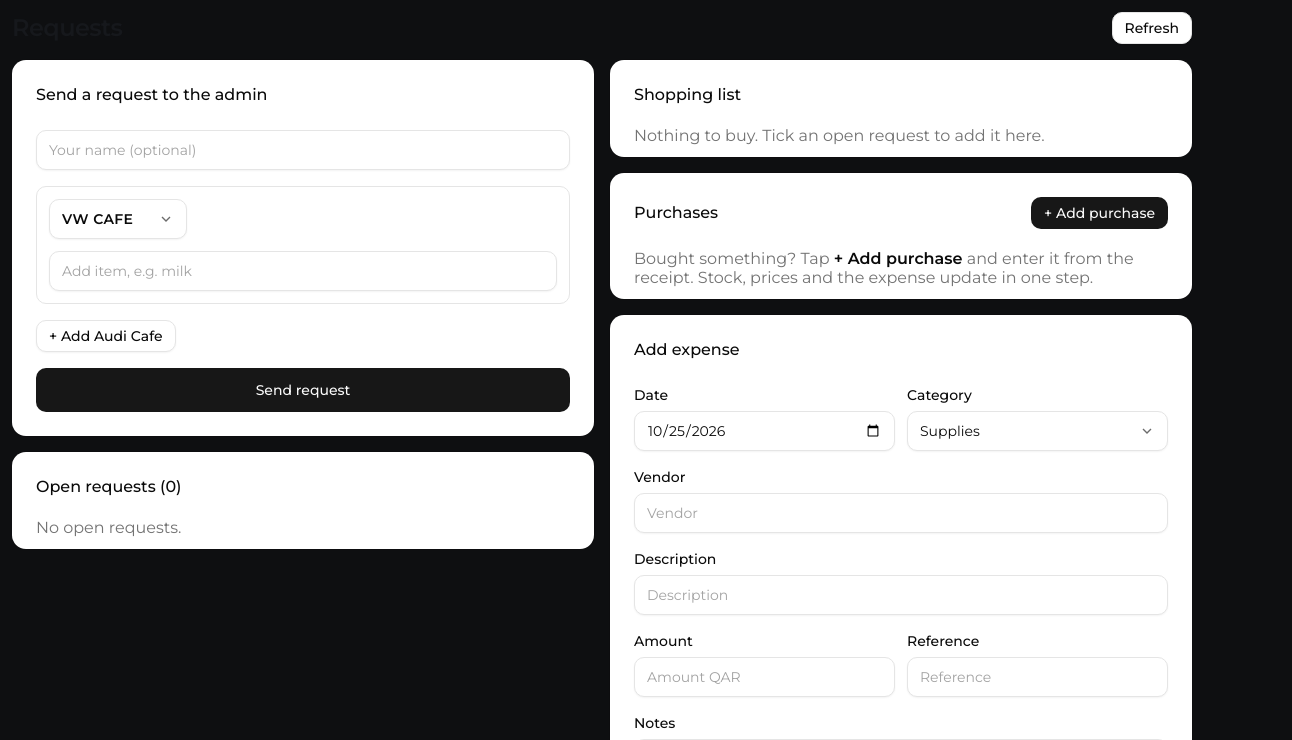
Add purchase › takes a price each and works out the line total
Step 1. Click the button "+ Add purchase" → {"x": 1100, "y": 213}, box [1031, 197, 1168, 229]
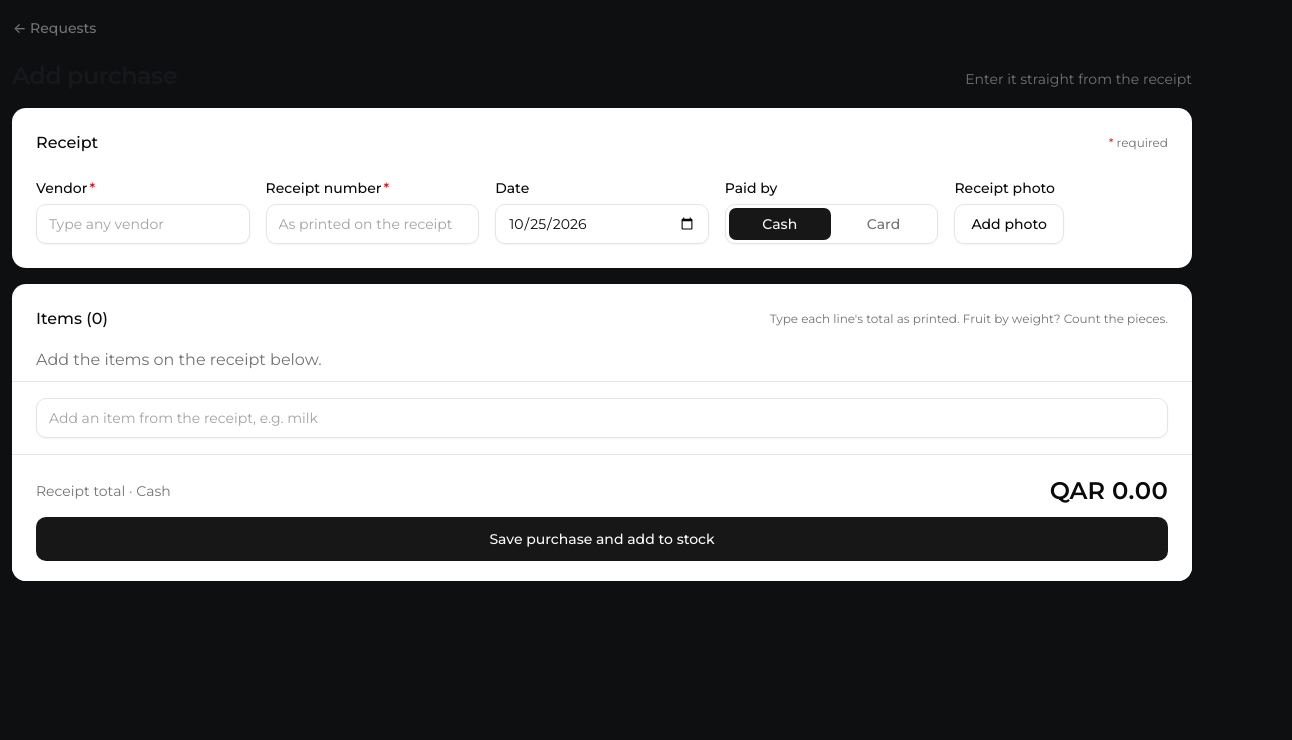
Step 2. Type "ora" into the dropdown labelled "Add an item from the receipt, e.g. milk" → {"x": 602, "y": 418}, box [36, 398, 1168, 438]
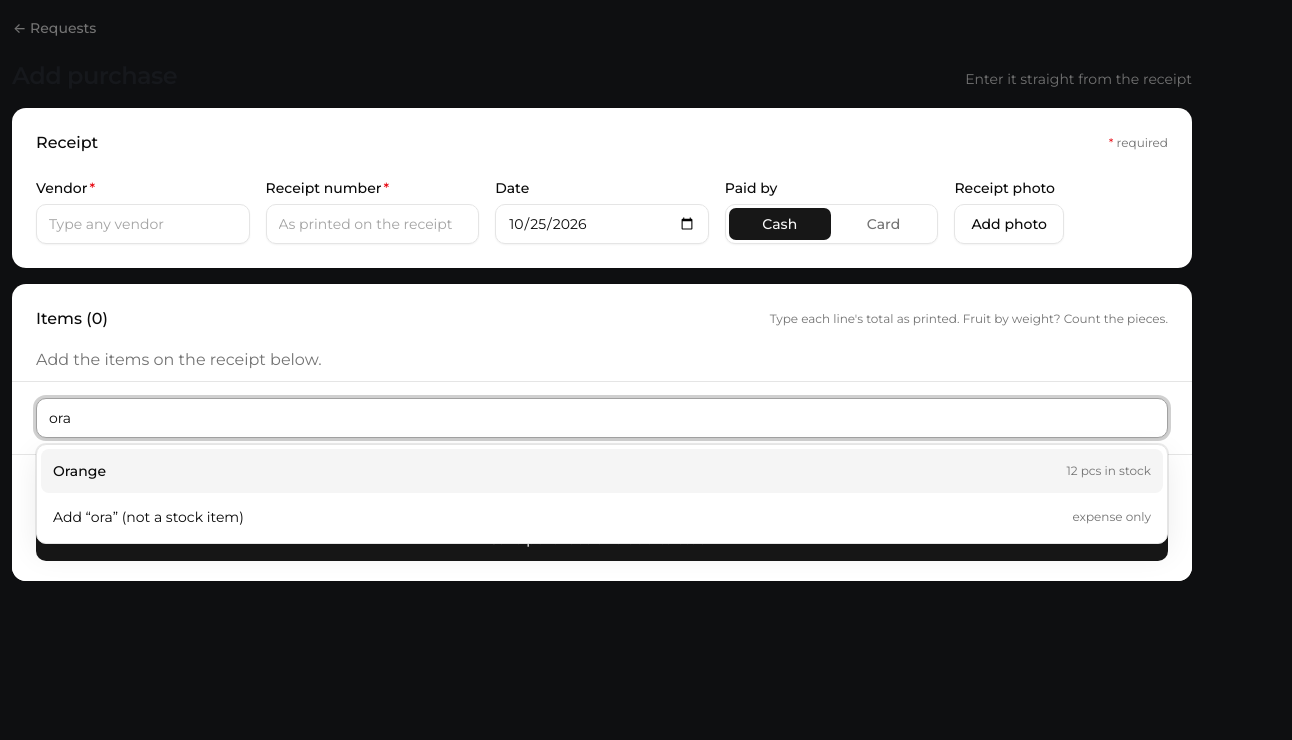
Step 3. Click the option "Orange 12 pcs in stock" → {"x": 80, "y": 471}, box [41, 449, 1163, 493]
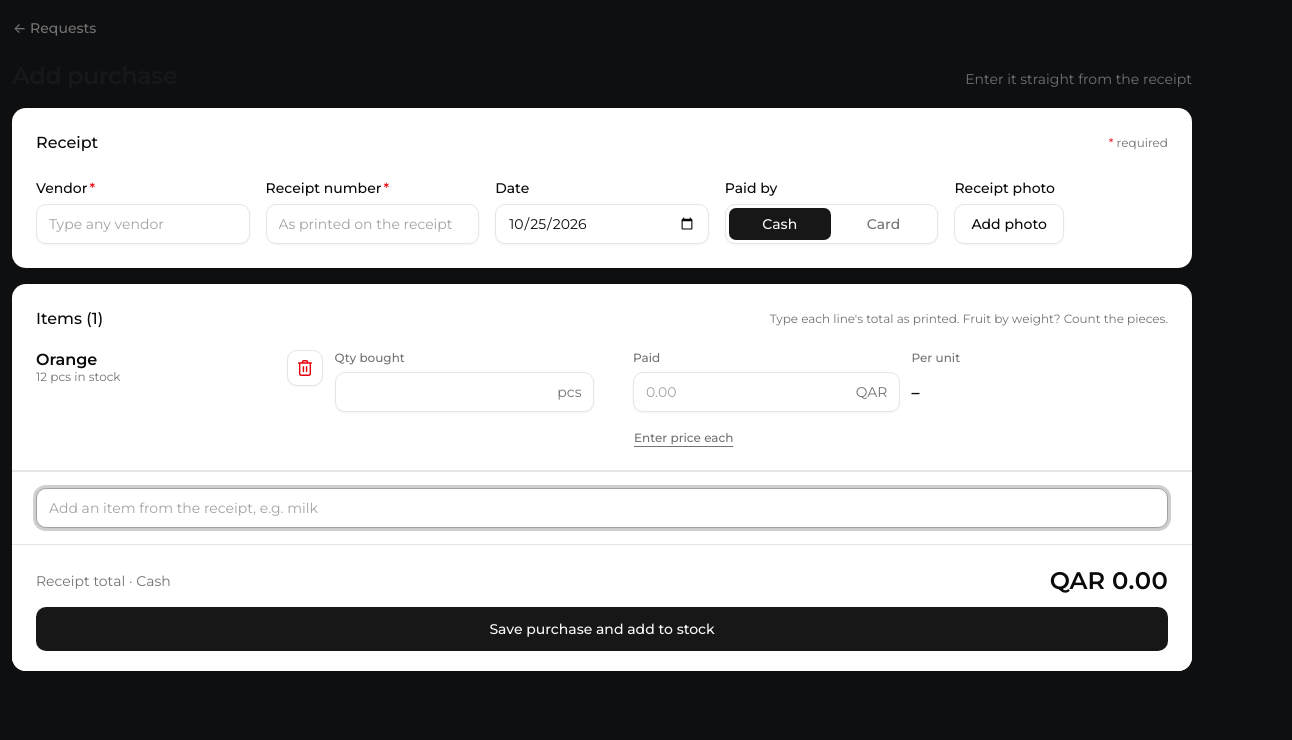
Step 4. Type "10" into the number field named "Quantity of Orange bought" → {"x": 464, "y": 392}, box [334, 372, 594, 412]
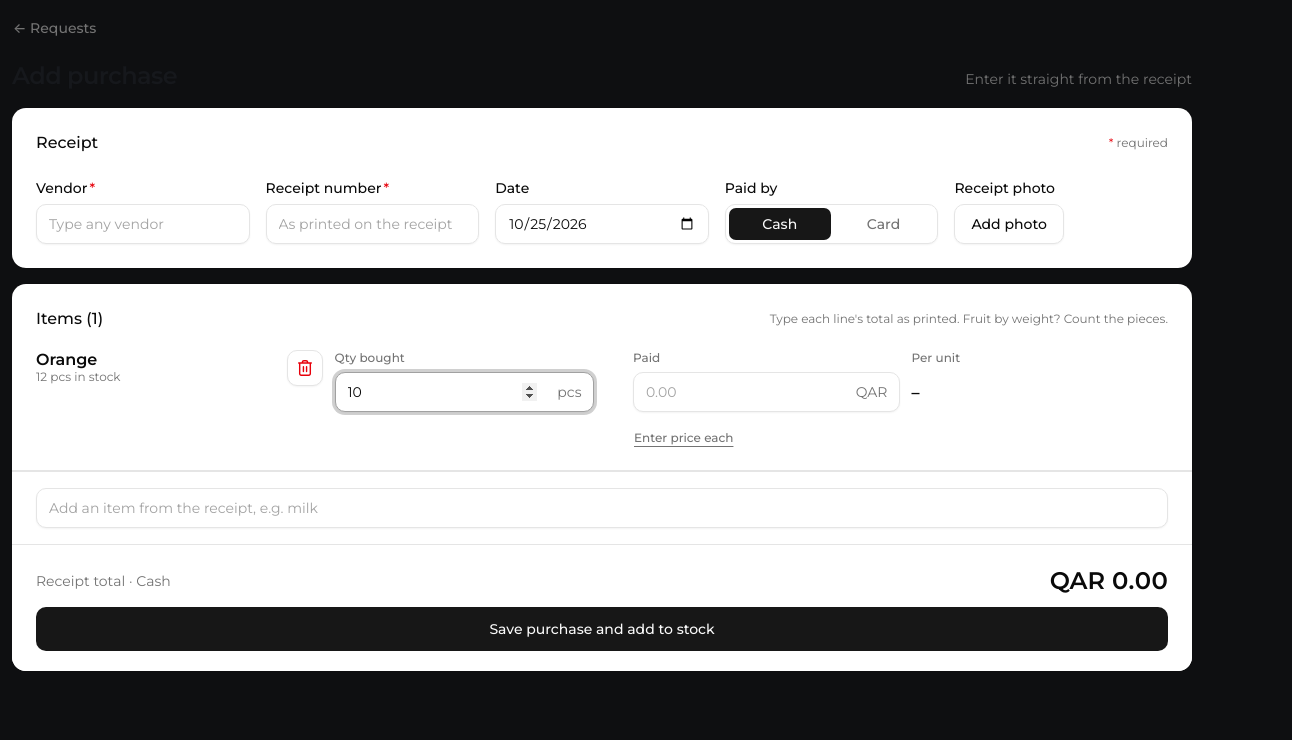
Step 5. Click the button "Enter price each" → {"x": 684, "y": 438}, box [633, 418, 734, 458]
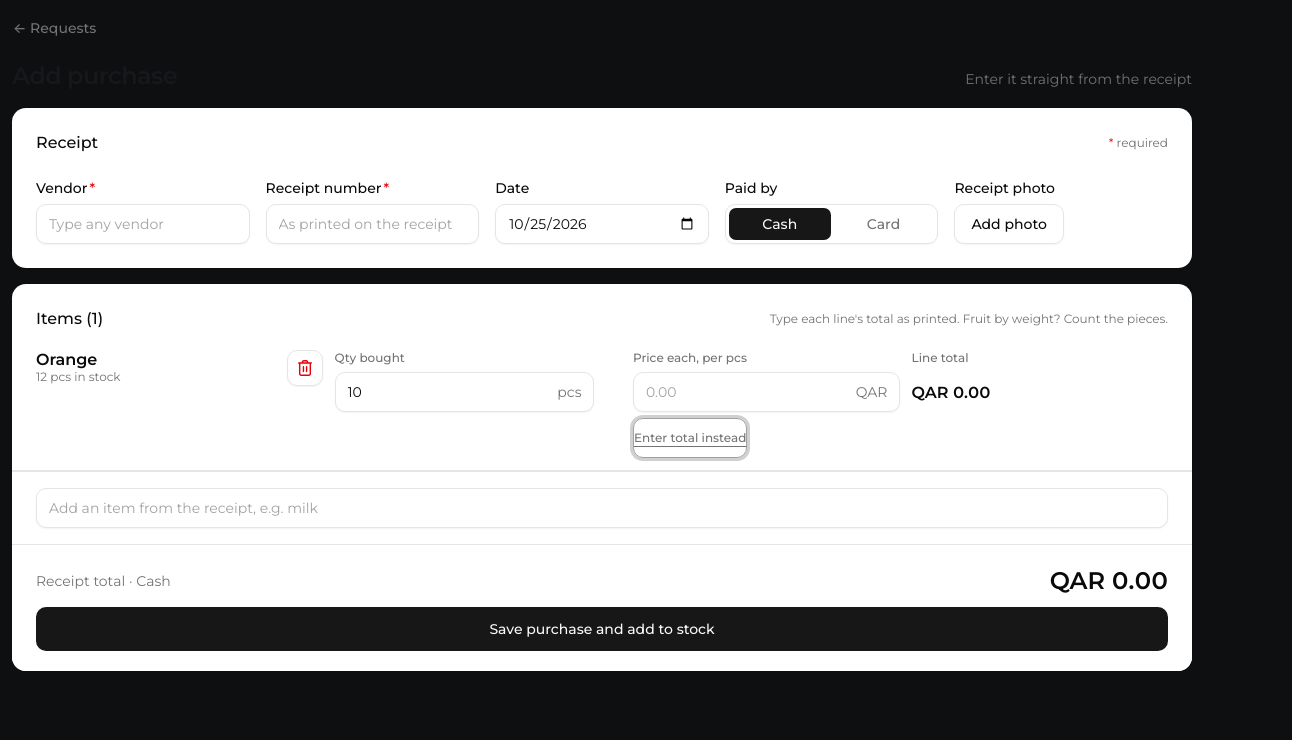
Step 6. Type "1.5" into the number field named "Price per pcs of Orange" → {"x": 766, "y": 392}, box [633, 372, 900, 412]
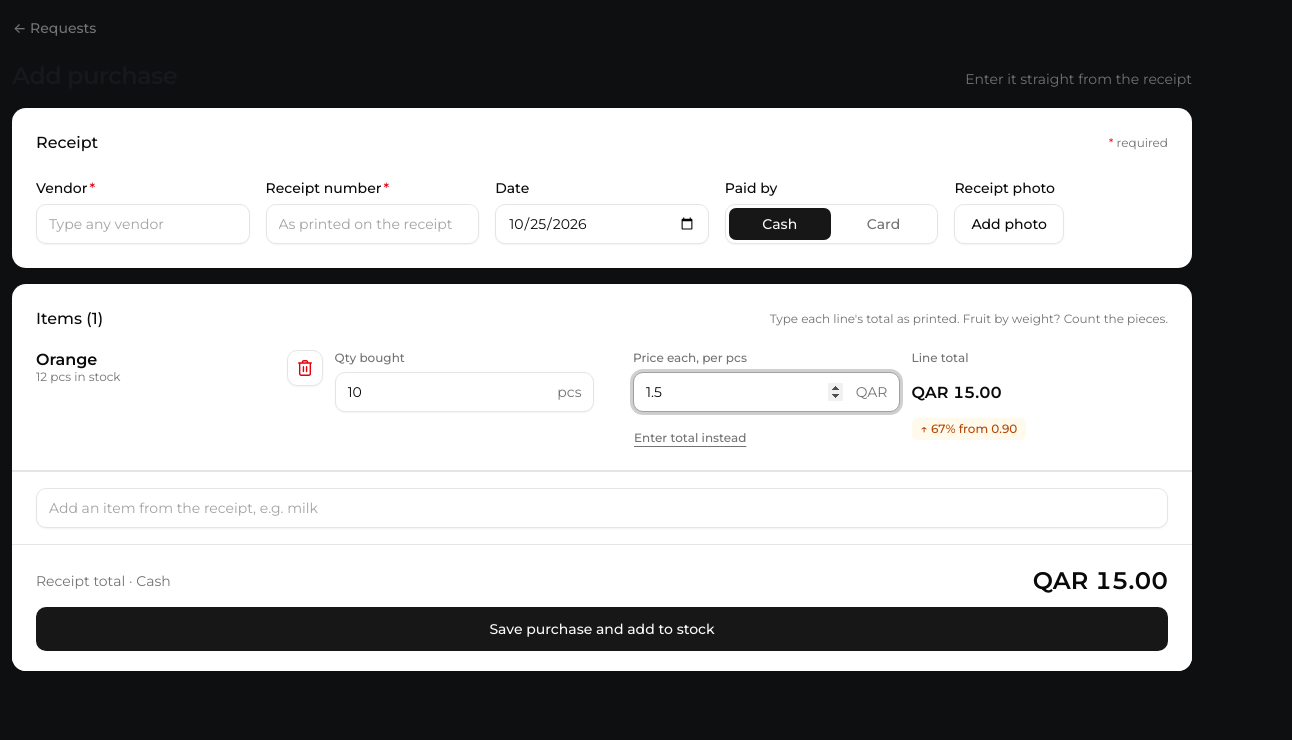
Expected: the text "QAR 15.00" below "Line total" is shown, [912, 382, 1002, 402]
